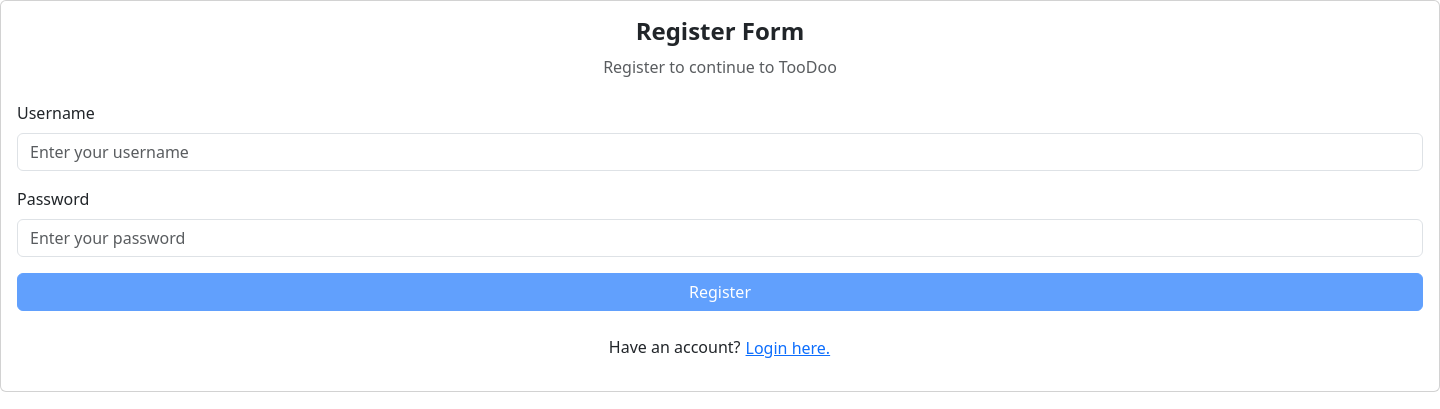
<RegisterForm /> component › Behavior › Form submission › Should show loading state on the "Register" button while the form is submitting
This screenshot has width=1440, height=409.
Type "test" into the field labelled "Username". click: (720, 152)
box: [17, 133, 1423, 171]
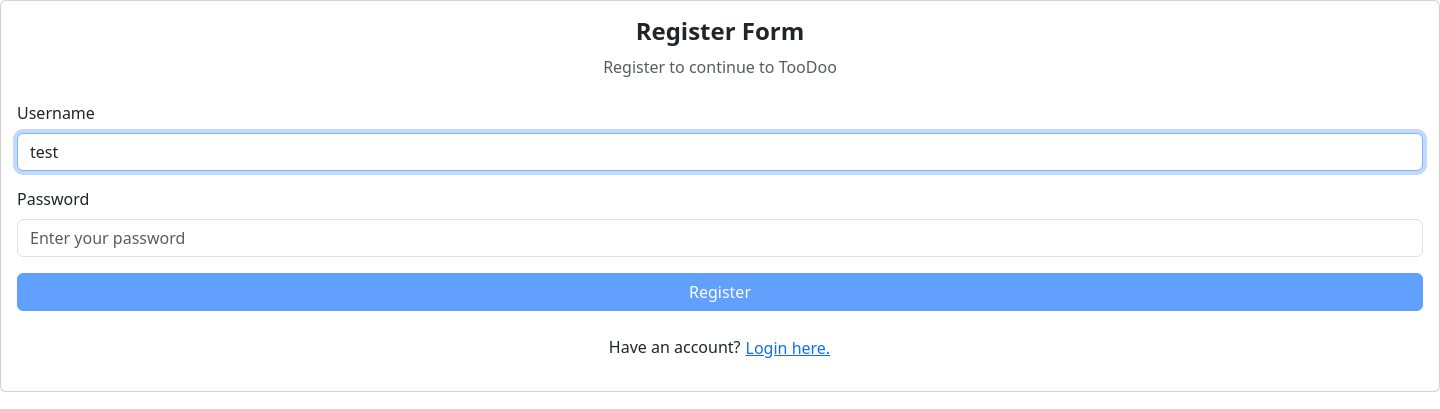
Type "12345678" into the password field labelled "Password". click: (720, 238)
box: [17, 219, 1423, 257]
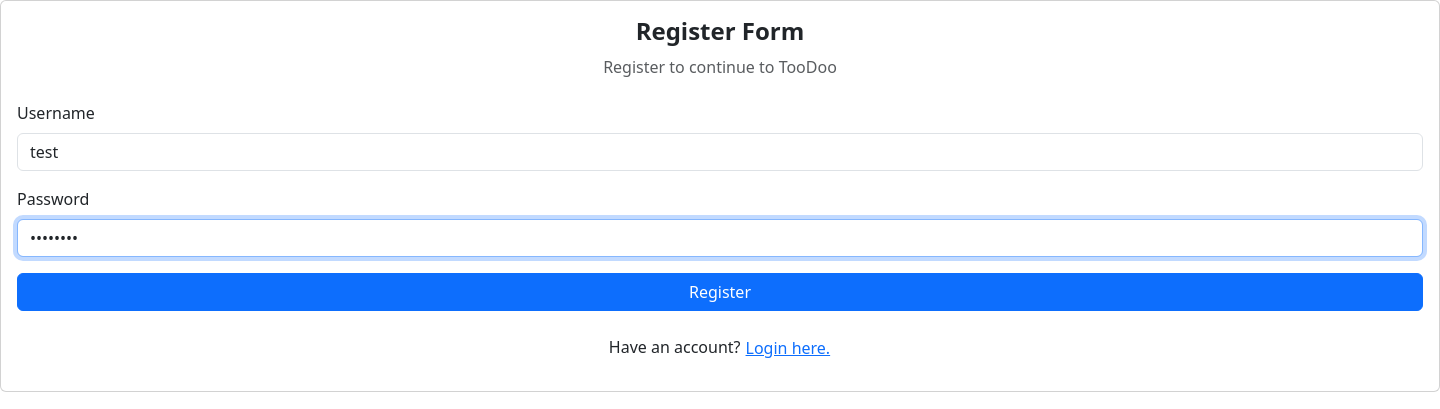
Click the button "Register". click: (720, 292)
box: [17, 273, 1423, 311]
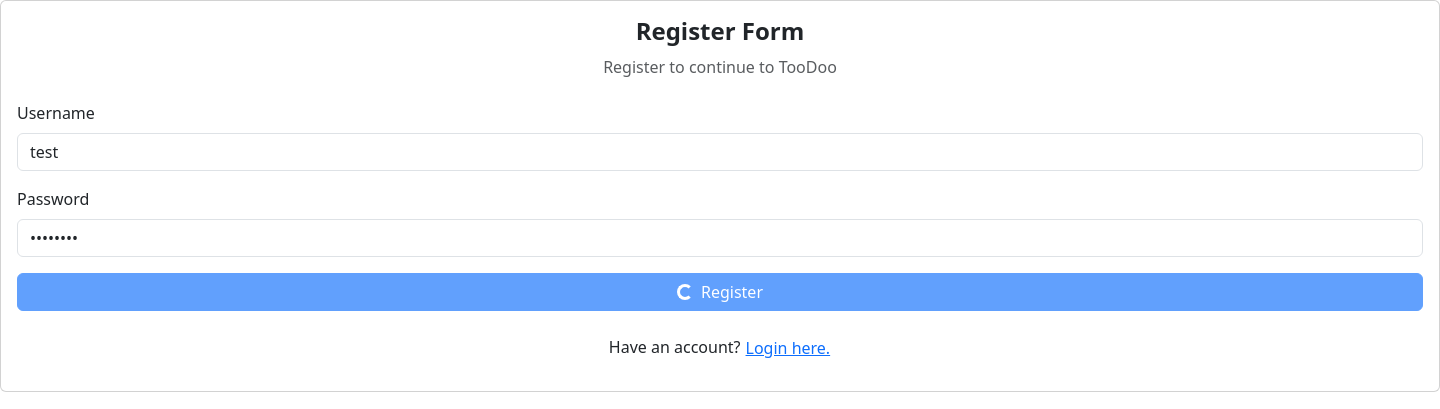
Now the button "Register" is disabled, box [17, 273, 1423, 311]
